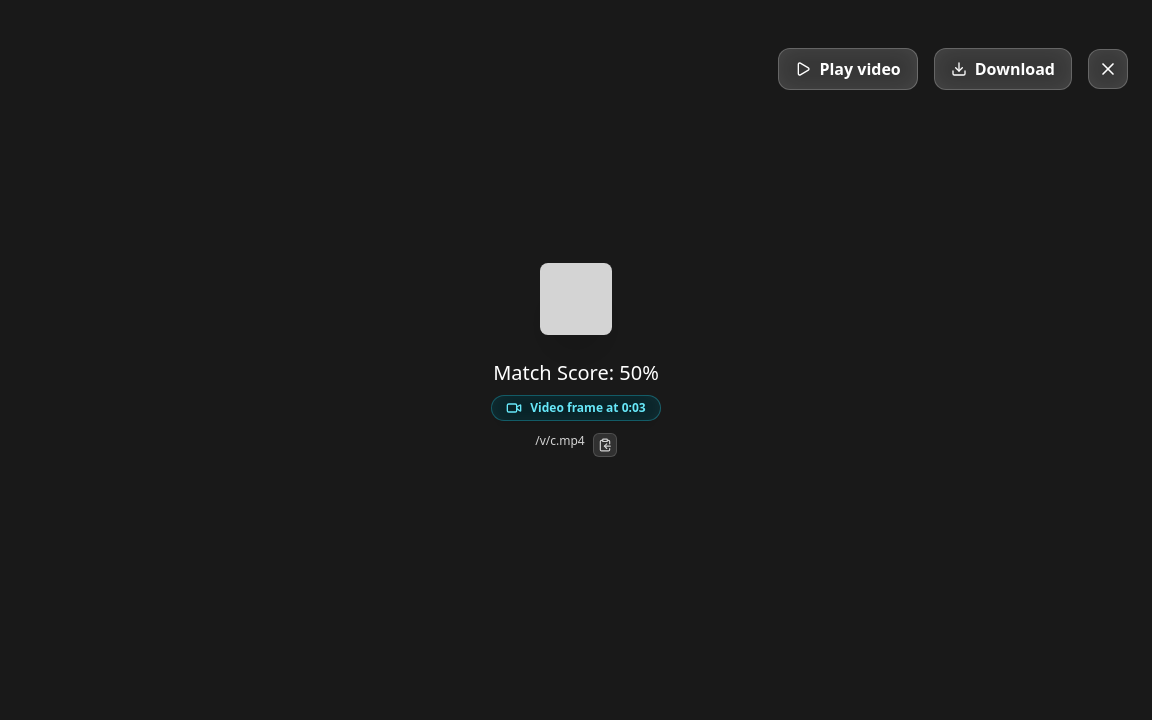
Test: original links › playing a video in the lightbox › replaces the picture with the player at the frame time, without leaving the view
The width and height of the screenshot is (1152, 720).
Later steps or results of the test are not shown.
Click the button "Play video" at (848,69), box x1=778 y1=48 x2=918 y2=90
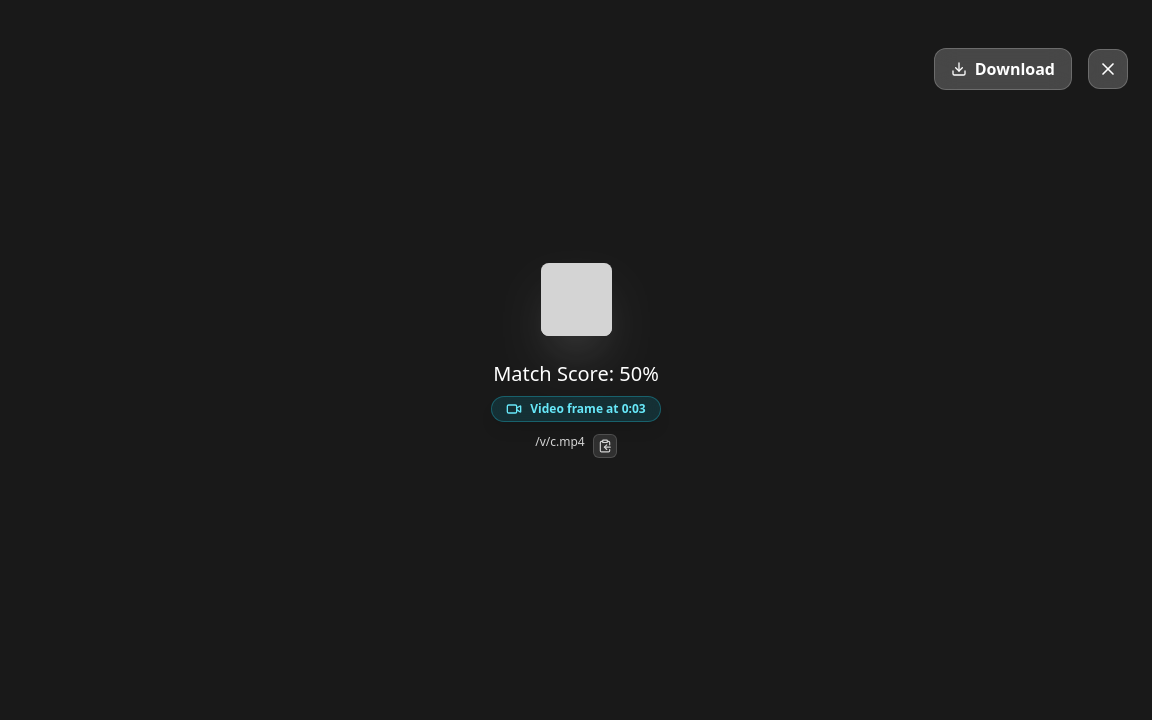
Check: the link "Download" is shown, box x1=934 y1=48 x2=1072 y2=90
Check: the picture is gone
Check: the button "Play video" is gone
